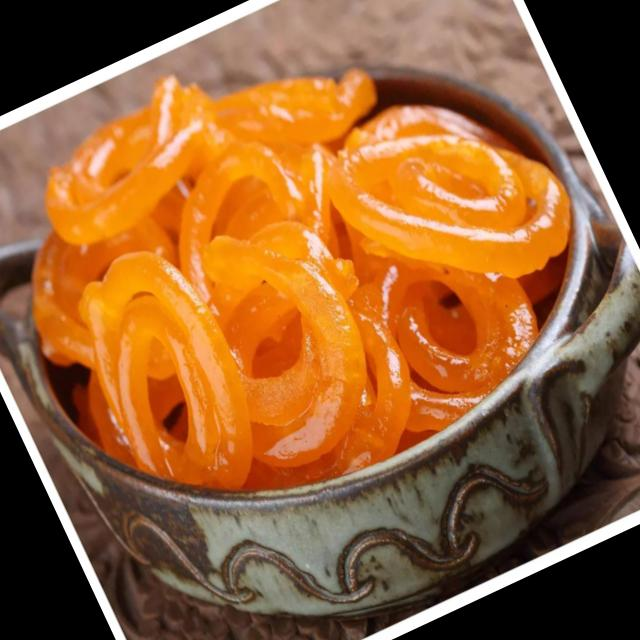jalebi: (0, 0, 615, 557)
